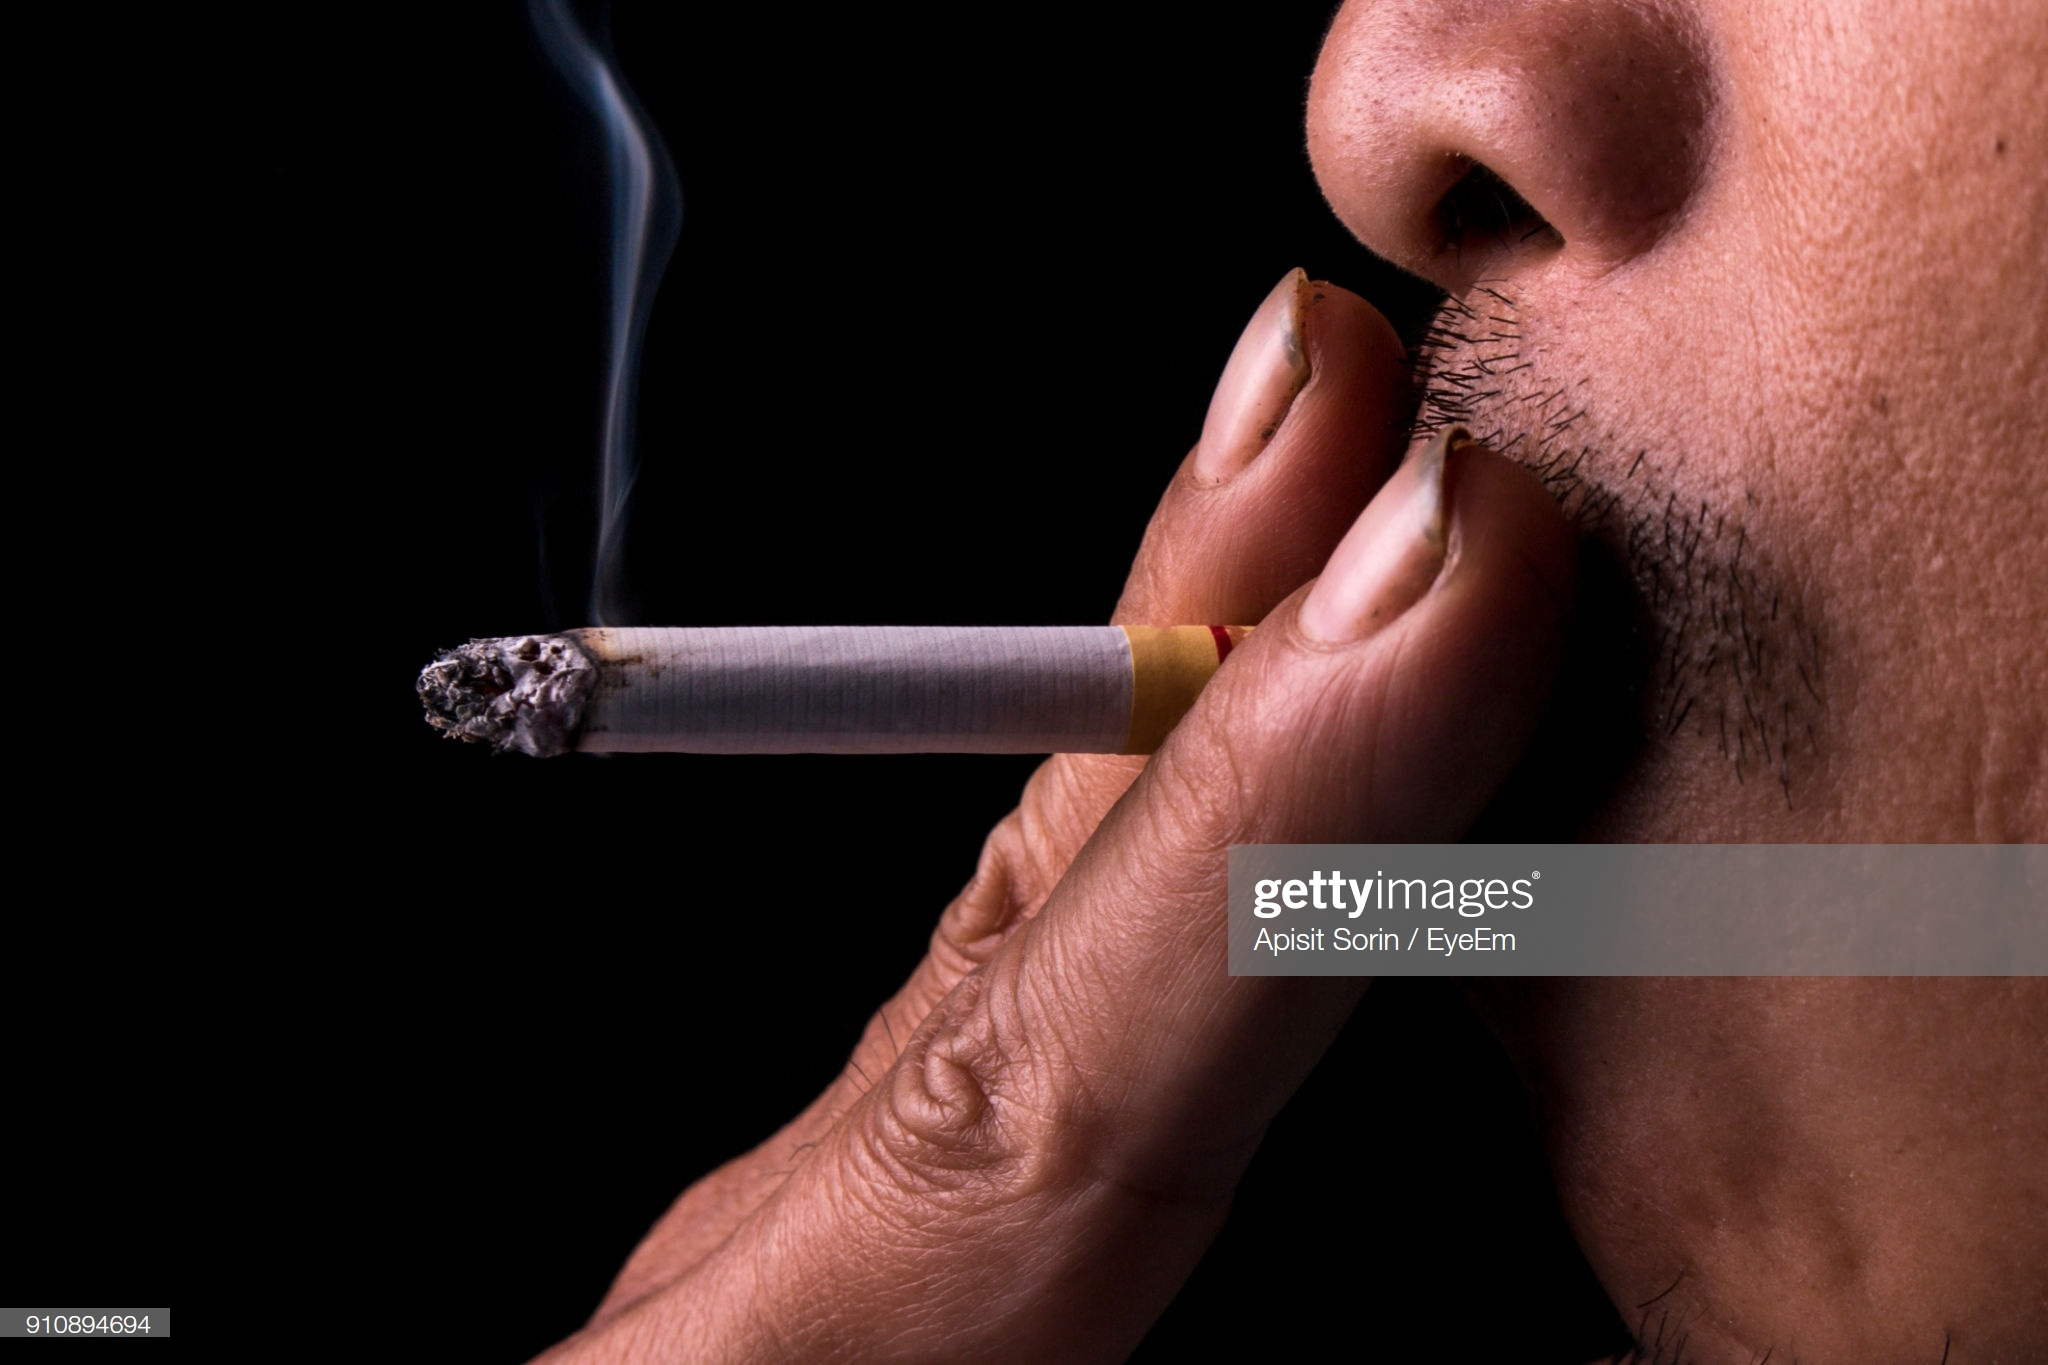sigaretta: (405, 568, 1387, 800)
